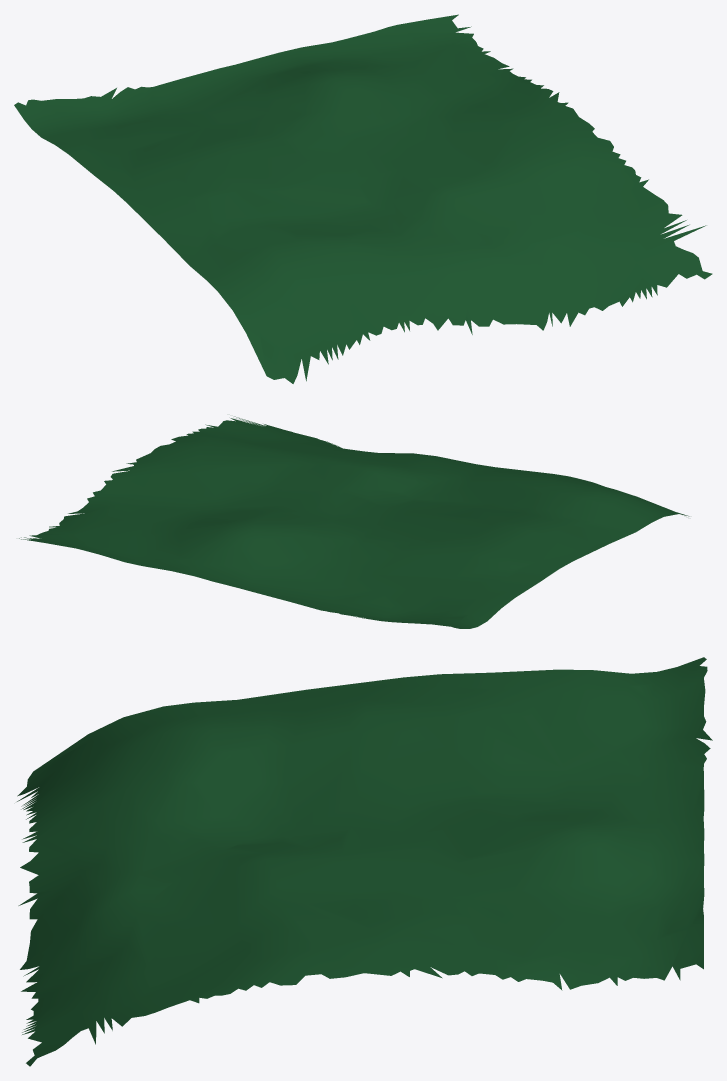
File: payo_land_xm4_y0_lod2.glb
3 renders of one model, top to bottom at view 1: azimuth 30°, elevation 25°; view 2: azimuth 150°, elevation 25°; view 3: azimuth 270°, elevation 25°, orthographic. The views are drawn at different scales.
Visible parts, largest first — view 1: payo_land_xm4_y0; view 2: payo_land_xm4_y0; view 3: payo_land_xm4_y0.
Boxes of the visible parts, bbox=[...] form: payo_land_xm4_y0: bbox=[14, 14, 712, 383]; payo_land_xm4_y0: bbox=[19, 416, 689, 628]; payo_land_xm4_y0: bbox=[17, 657, 712, 1066].
Bounding box in the file's own units: 271 × 59.72 × 266.
